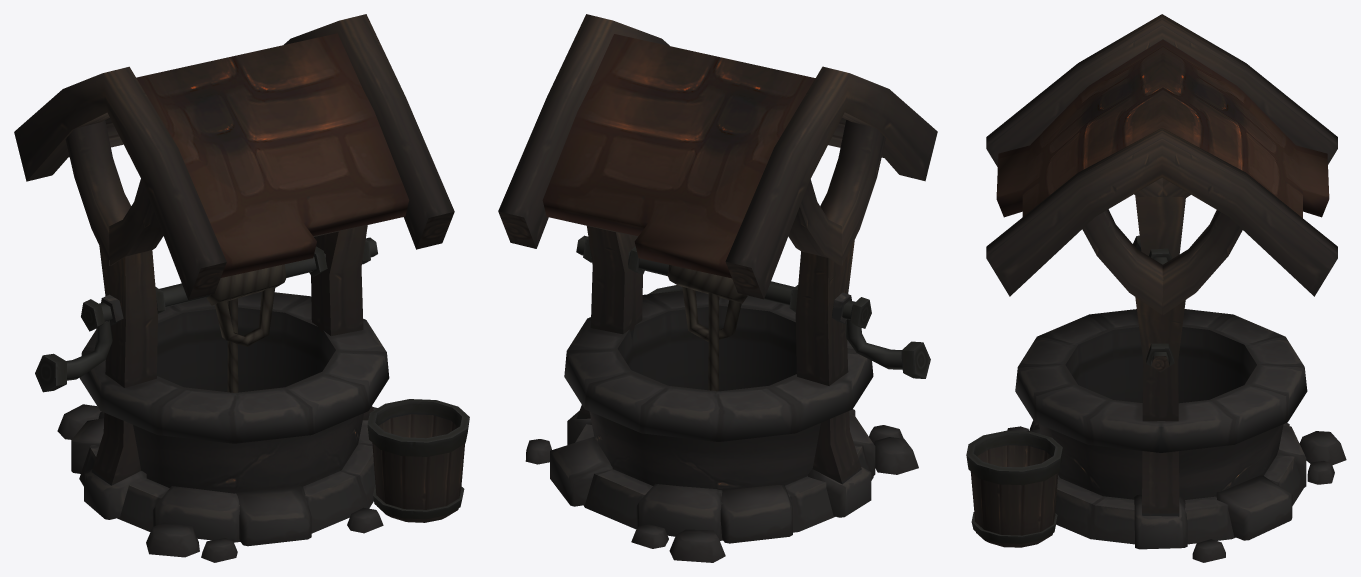
The model's file is water well.FBX.
3 renders of one model, left to right at view 1: azimuth 30°, elevation 25°; view 2: azimuth 150°, elevation 25°; view 3: azimuth 270°, elevation 25°, orthographic. The views are drawn at different scales.
Visible parts, largest first — view 1: water well; view 2: water well; view 3: water well.
Boxes of the visible parts, <box> form: water well: <box>14,14,469,562</box>; water well: <box>498,14,937,562</box>; water well: <box>966,14,1346,562</box>.
Bounding box in the file's own units: 627 × 706 × 593.
